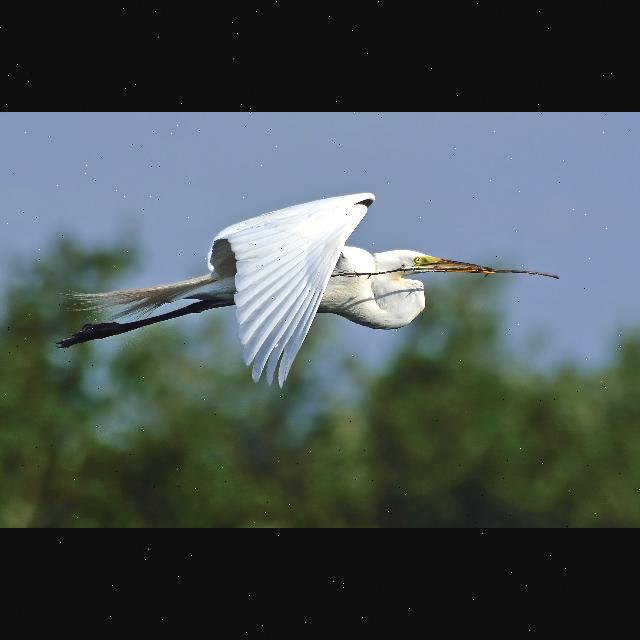egret: (51, 188, 572, 396)
